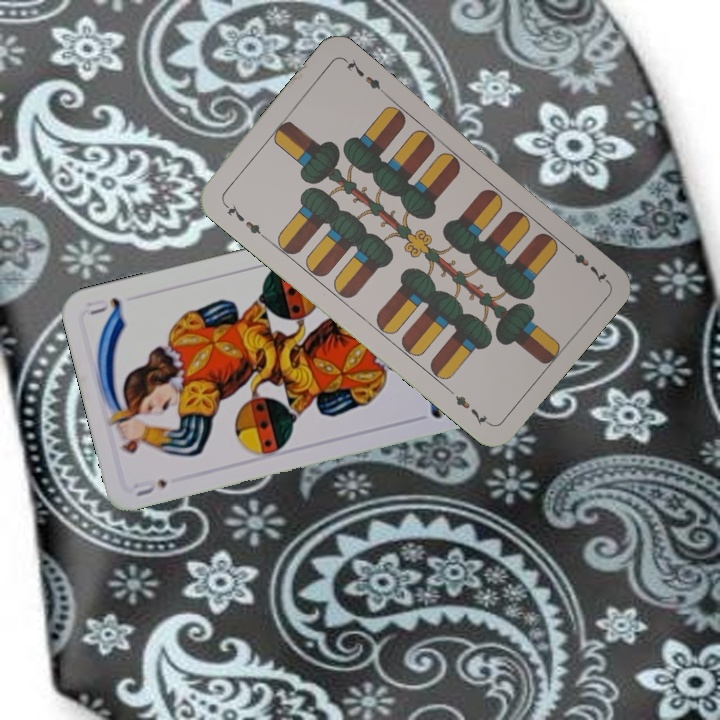E7: (561, 241, 610, 286), (219, 199, 268, 242)
SU: (129, 474, 170, 499)
